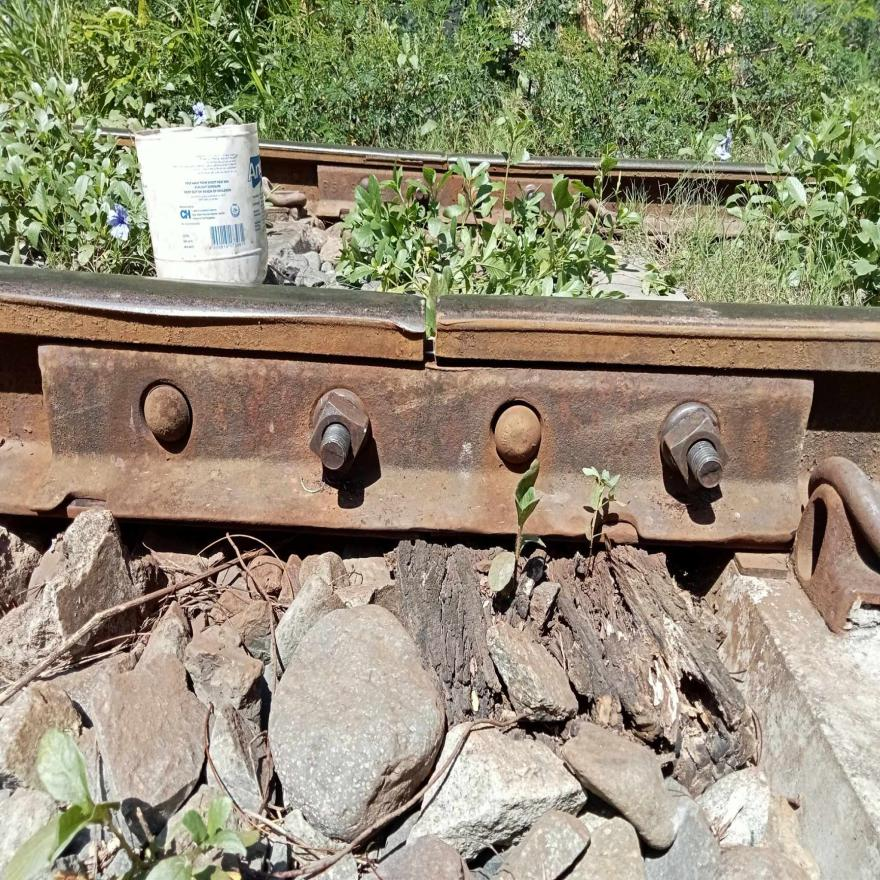railway-gap: (371, 273, 486, 397), (424, 136, 472, 192)
